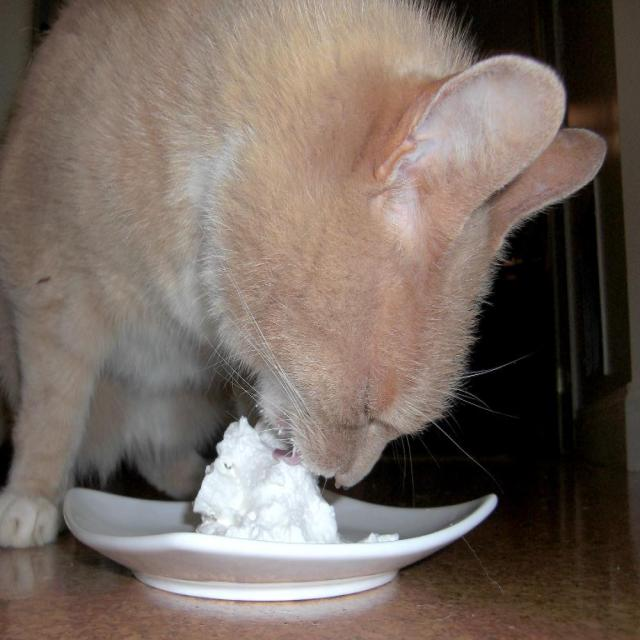Cat: (0, 0, 605, 551)
